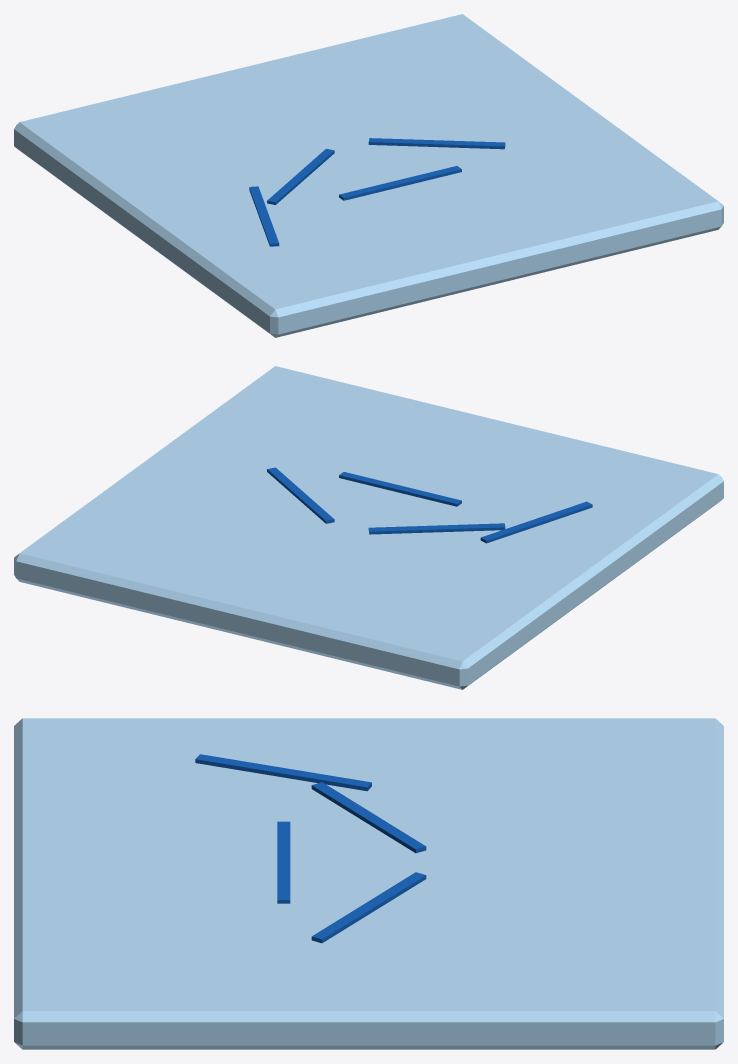
File: Tile_Ice_Sinking_v001.fbx
The picture shows the model from 3 angles, top to bottom: view 1: azimuth 30°, elevation 25°; view 2: azimuth 150°, elevation 25°; view 3: azimuth 270°, elevation 25°; orthographic projection. The views are drawn at different scales.
Visible parts, largest first — view 1: Tile, Crack, Crack.001, Crack.002, Crack.003; view 2: Tile, Crack.002, Crack.001, Crack.003, Crack; view 3: Tile, Crack.003, Crack, Crack.002, Crack.001.
Part boxes in pixels (x1,y1,x2,y2): Tile: [14, 14, 723, 337]; Crack: [368, 138, 505, 149]; Crack.001: [339, 166, 461, 200]; Crack.002: [267, 148, 334, 204]; Crack.003: [249, 186, 279, 246]; Tile: [14, 366, 723, 689]; Crack.002: [368, 523, 505, 534]; Crack.001: [339, 472, 461, 506]; Crack.003: [480, 501, 592, 543]; Crack: [267, 467, 334, 523]; Tile: [14, 718, 723, 1049]; Crack.003: [195, 754, 371, 791]; Crack: [311, 872, 426, 943]; Crack.002: [311, 782, 426, 853]; Crack.001: [277, 821, 290, 903].
Size of the model in its own units: 100 by 6.6 by 100.
